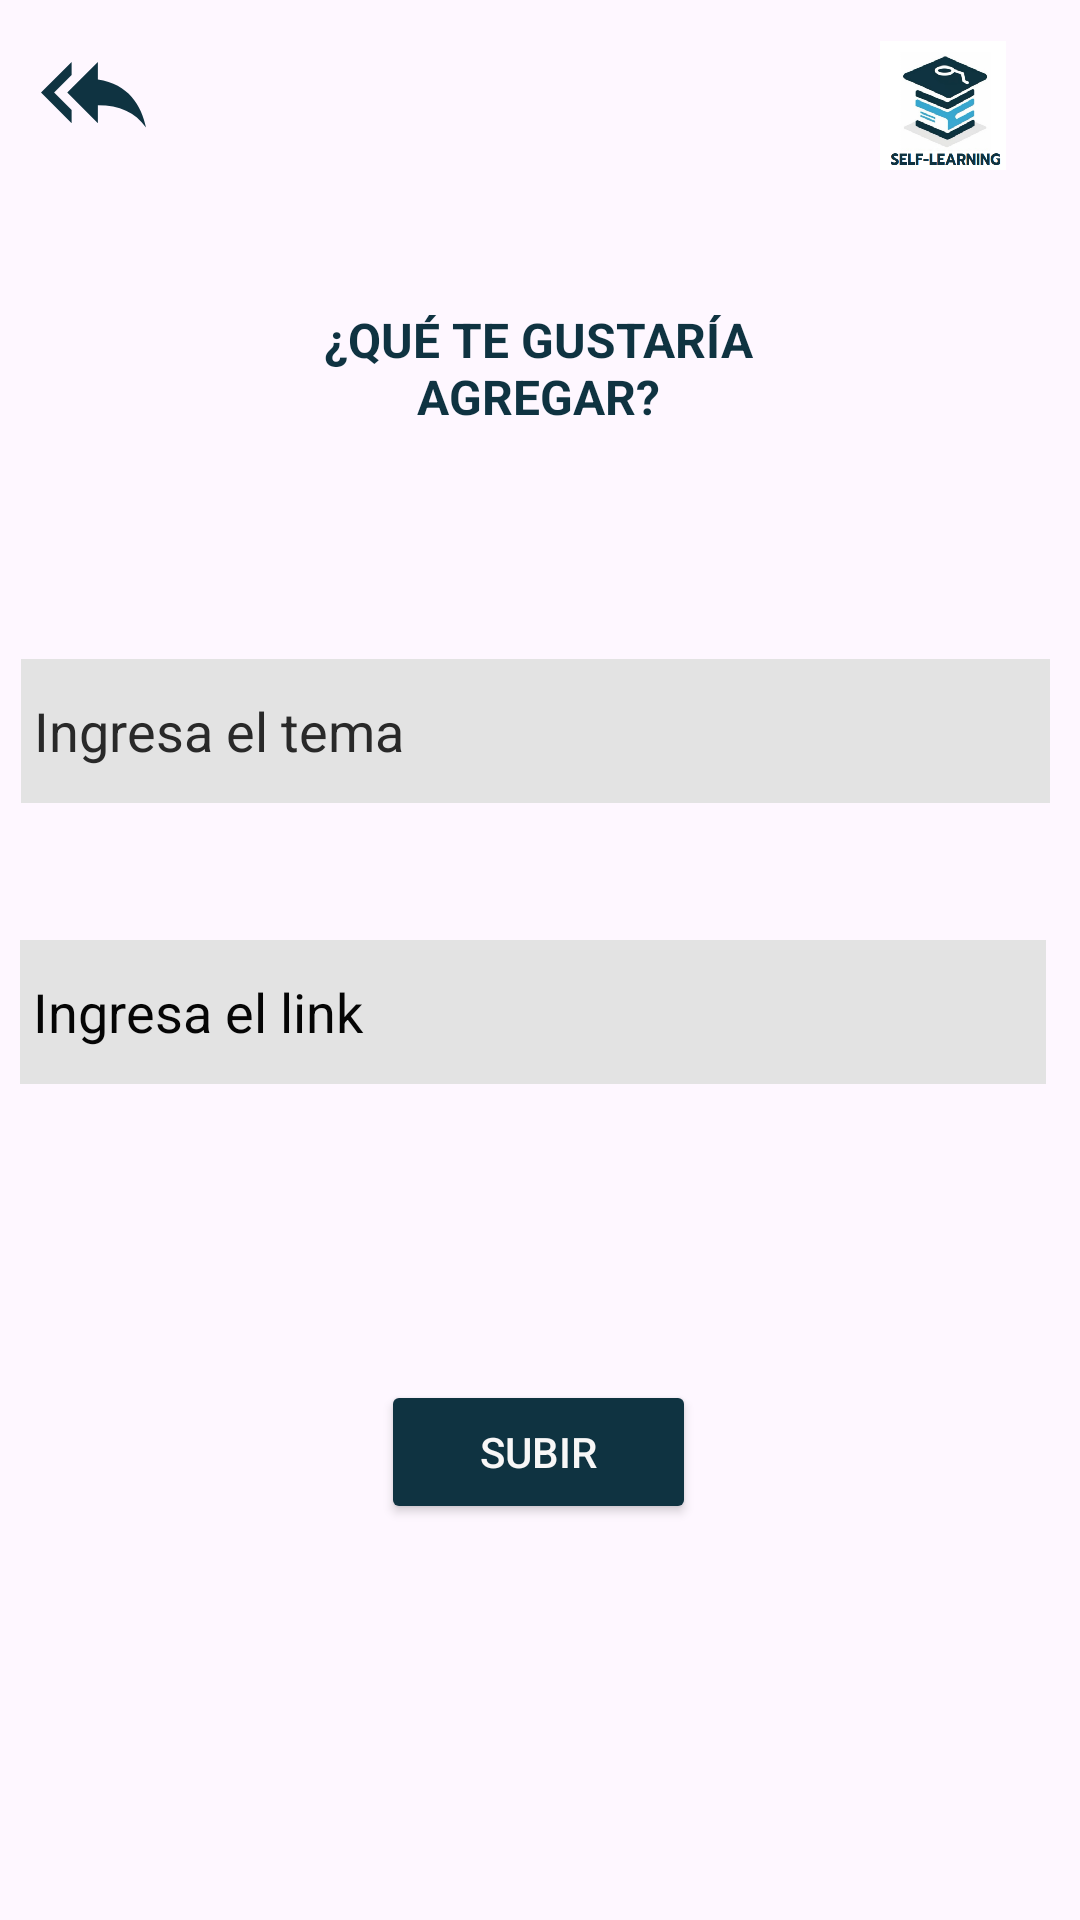

Point at icon controls on the screen. Image size 1080 x 1920, points as [x,y].
backimage: [93,94]
